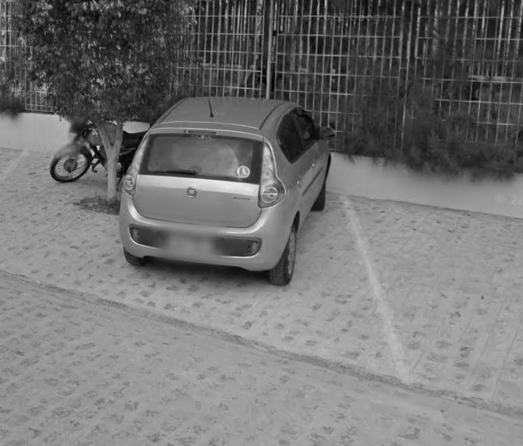car: (115, 92, 337, 290)
